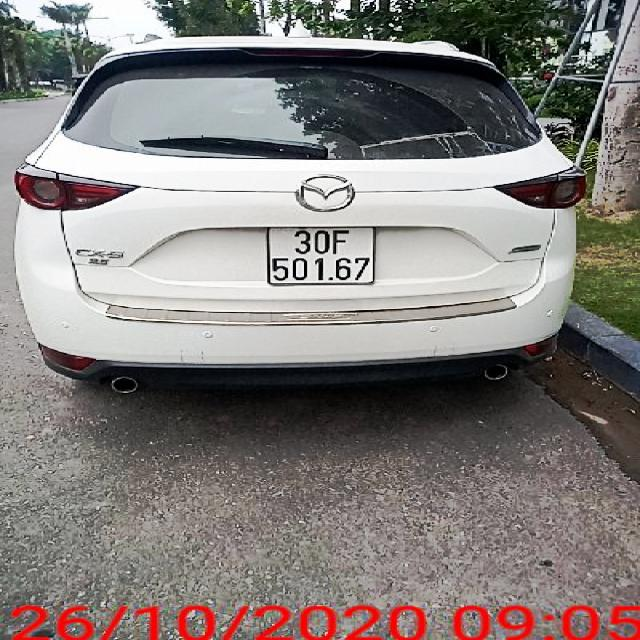license_plate: (269, 227, 375, 286)
